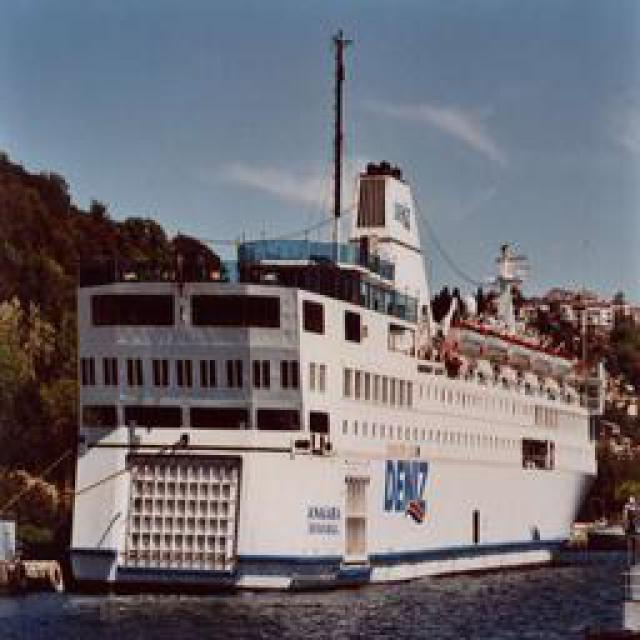Ship: (44, 160, 607, 585)
